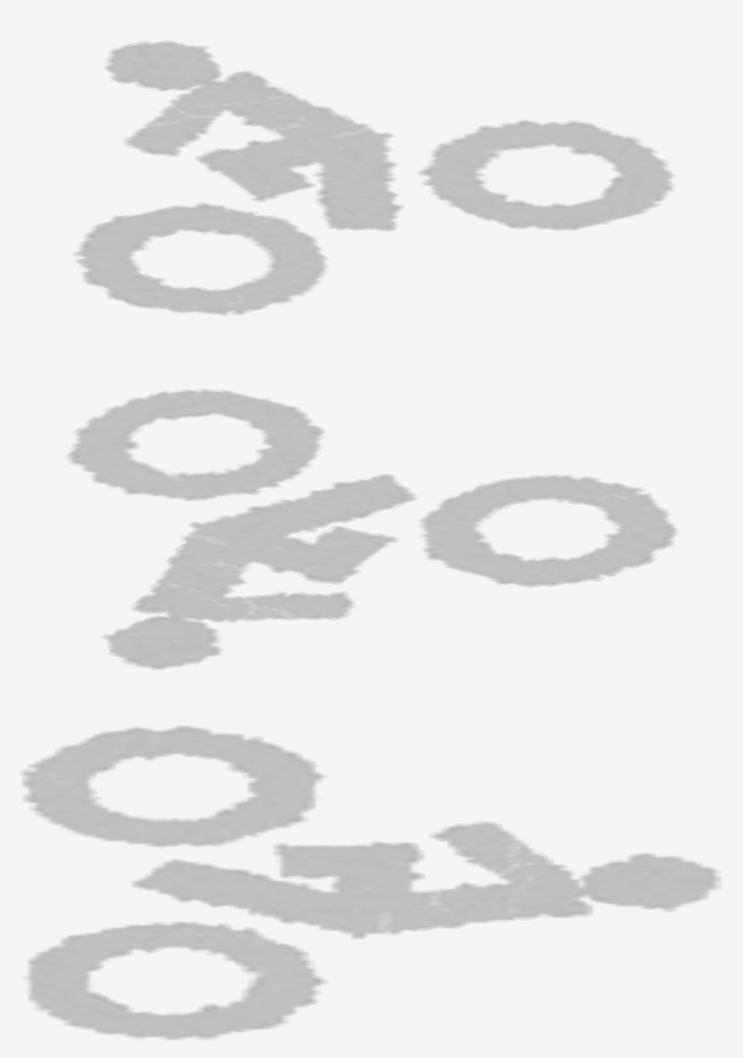
File: q-downtown-decal-bikelane.glb
The picture shows the model from 3 angles, top to bottom: view 1: azimuth 30°, elevation 25°; view 2: azimuth 150°, elevation 25°; view 3: azimuth 270°, elevation 25°; orthographic projection. The views are drawn at different scales.
Visible parts, largest first — view 1: Decal_Bikelane; view 2: Decal_Bikelane; view 3: Decal_Bikelane.
Boxes of the visible parts, x1=… form: Decal_Bikelane: x1=75, y1=41, x2=673, y2=314; Decal_Bikelane: x1=69, y1=389, x2=675, y2=668; Decal_Bikelane: x1=23, y1=726, x2=719, y2=1039.
Bounding box in the file's own units: 2.97 × 0 × 2.82.
Materials: 1 (1 with a texture image).
